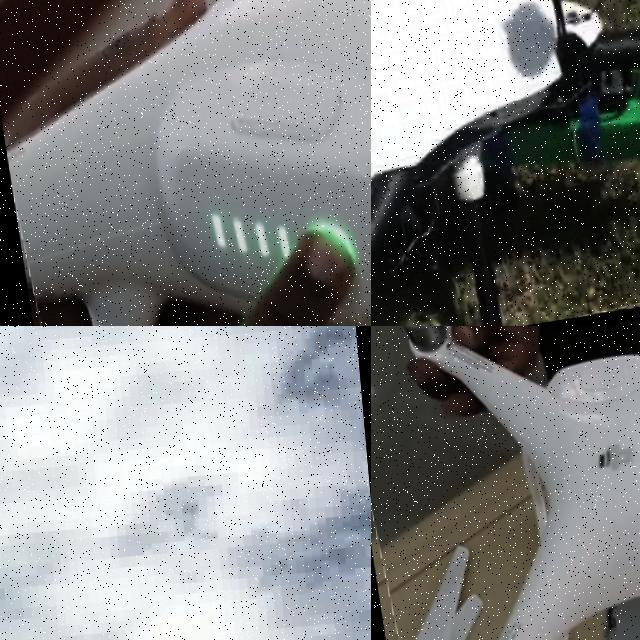0: (371, 0, 640, 326)
drone: (0, 0, 371, 326), (371, 326, 640, 640)
